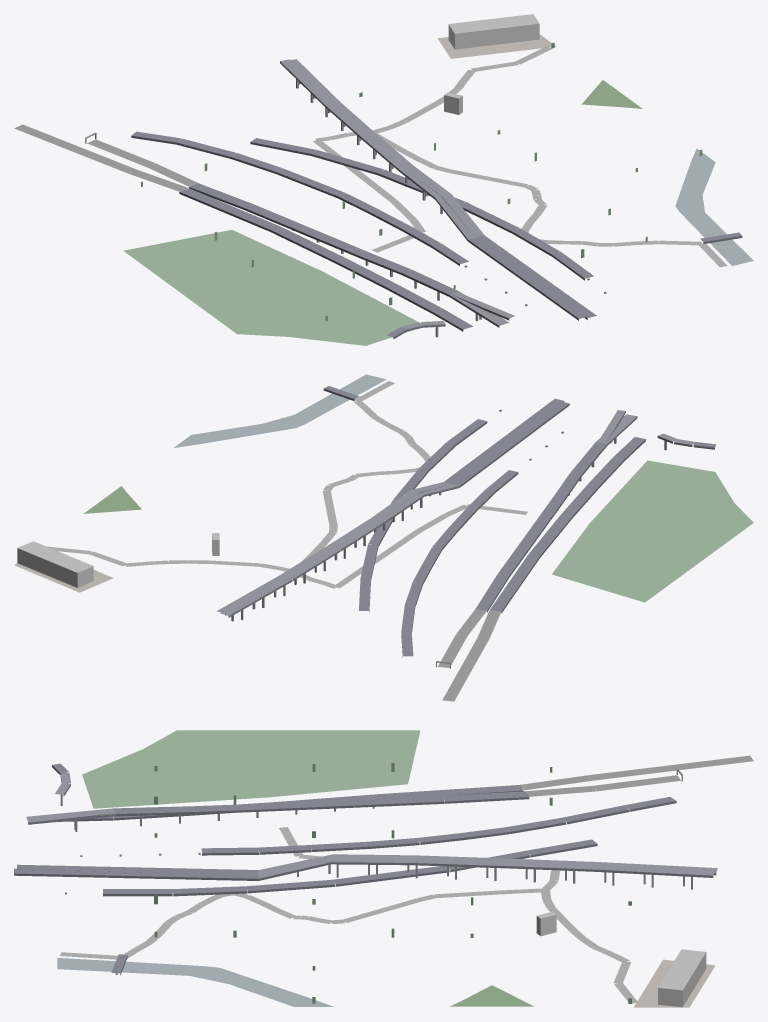
3 views of the same model, one above another, from view 1: azimuth 30°, elevation 25°; view 2: azimuth 150°, elevation 25°; view 3: azimuth 270°, elevation 25° (orthographic). The views are drawn at different scales.
Size of the model in its own units: 500 by 18.16 by 562.
